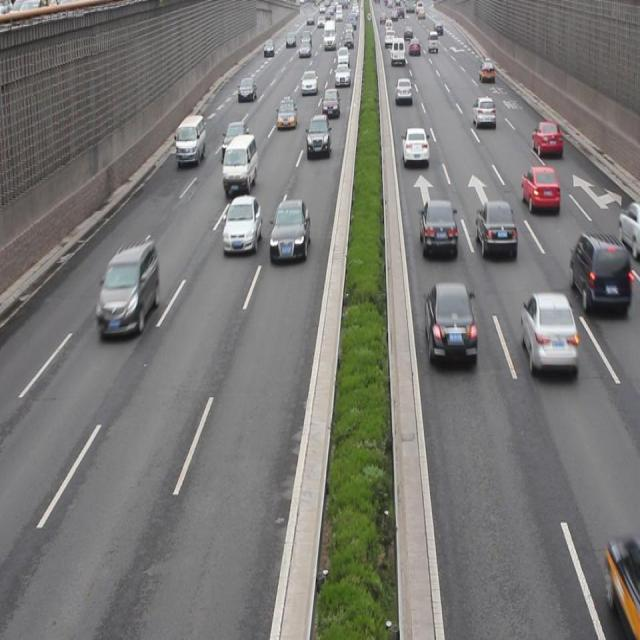car: (96, 242, 160, 339), (518, 292, 577, 378), (569, 232, 627, 317), (424, 281, 476, 368), (474, 198, 517, 262), (270, 199, 309, 261), (224, 194, 261, 255), (418, 199, 456, 257), (521, 168, 559, 212), (530, 118, 560, 157), (402, 126, 428, 170), (306, 116, 330, 160), (222, 122, 250, 158), (471, 95, 495, 129), (277, 97, 296, 128)
truck: (222, 134, 256, 192), (176, 114, 206, 166)
